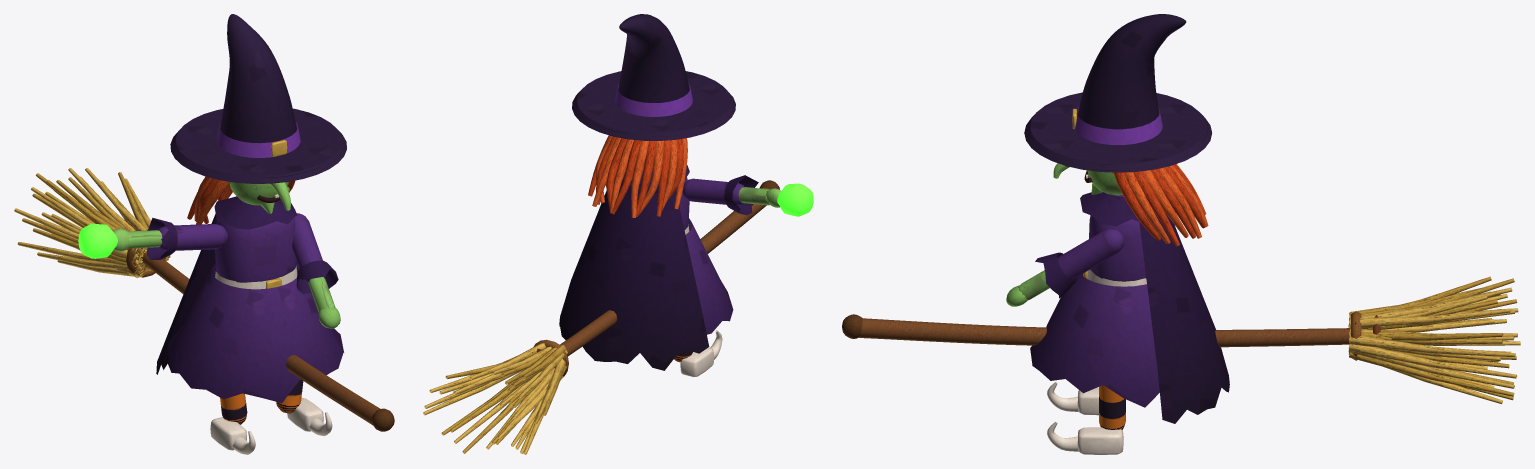
3 renders of one model, left to right at view 1: azimuth 30°, elevation 25°; view 2: azimuth 150°, elevation 25°; view 3: azimuth 270°, elevation 25°, orthographic. The views are drawn at different scales.
Visible parts, largest first — view 1: Body, Head, Broom, ArmR, ArmL, LegR, Cape, LegL; view 2: Head, Cape, Broom, ArmR, Body, LegR; view 3: Head, Broom, Body, Cape, ArmL, LegL, LegR.
Boxes of the visible parts, x1,y1,x2,y2 form: Body: (167, 196, 343, 402); Head: (170, 14, 346, 224); Broom: (14, 168, 394, 431); ArmR: (78, 217, 228, 259); ArmL: (292, 213, 340, 328); LegR: (210, 393, 255, 454); Cape: (156, 196, 296, 374); LegL: (276, 379, 332, 436); Head: (572, 14, 735, 217); Cape: (559, 179, 709, 370); Broom: (423, 180, 779, 454); ArmR: (682, 175, 813, 216); Body: (623, 165, 733, 334); LegR: (674, 330, 722, 377); Head: (1024, 14, 1211, 246); Broom: (842, 276, 1520, 404); Body: (1030, 192, 1159, 407); Cape: (1139, 212, 1229, 423); ArmL: (1006, 228, 1124, 306); LegL: (1047, 385, 1125, 454); LegR: (1047, 382, 1098, 415).
Size of the model in its own units: 1.05 by 1.57 by 2.31.
12 materials, 9 textured.
